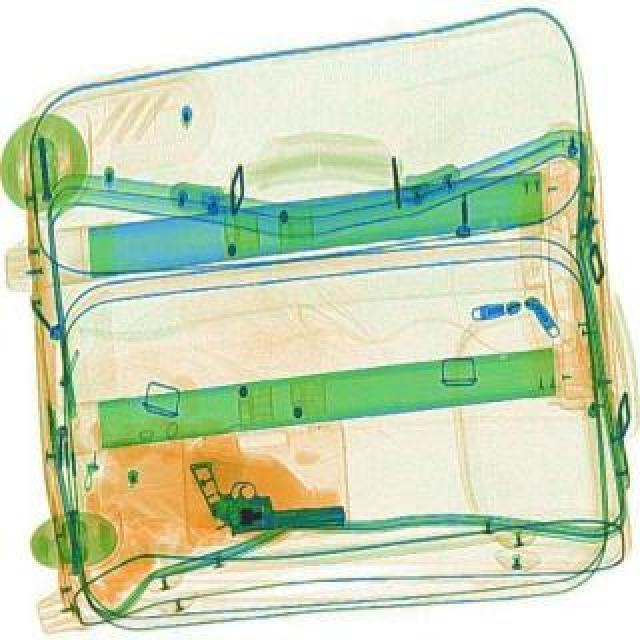gun: (188, 442, 348, 538)
